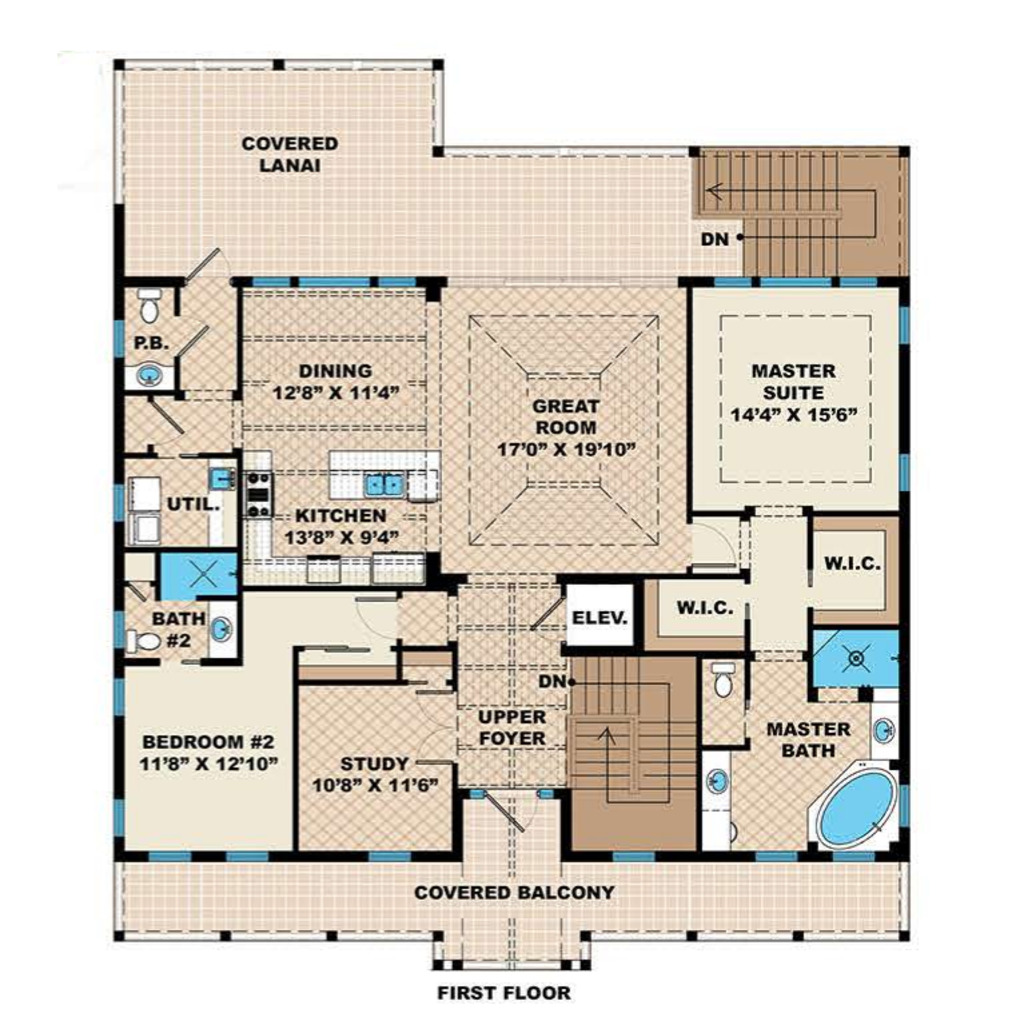door: (687, 520, 749, 572), (484, 785, 535, 832), (187, 250, 235, 294), (351, 593, 397, 638), (147, 396, 185, 449)
large_sink: (704, 657, 742, 701), (116, 626, 163, 658)
small_sink: (697, 747, 736, 810), (205, 596, 241, 659), (872, 699, 902, 760)
stairs: (562, 656, 706, 850), (696, 149, 905, 277)
tub: (814, 763, 900, 847)
twin_sink: (361, 474, 418, 506)
windows: (241, 270, 435, 299), (711, 273, 883, 295), (134, 843, 274, 864)
